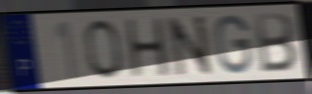1: (54, 20, 79, 81)
B: (252, 10, 299, 74)
G: (213, 13, 255, 76)
H: (123, 15, 173, 79)
N: (164, 13, 216, 79)
O: (83, 18, 125, 81)
